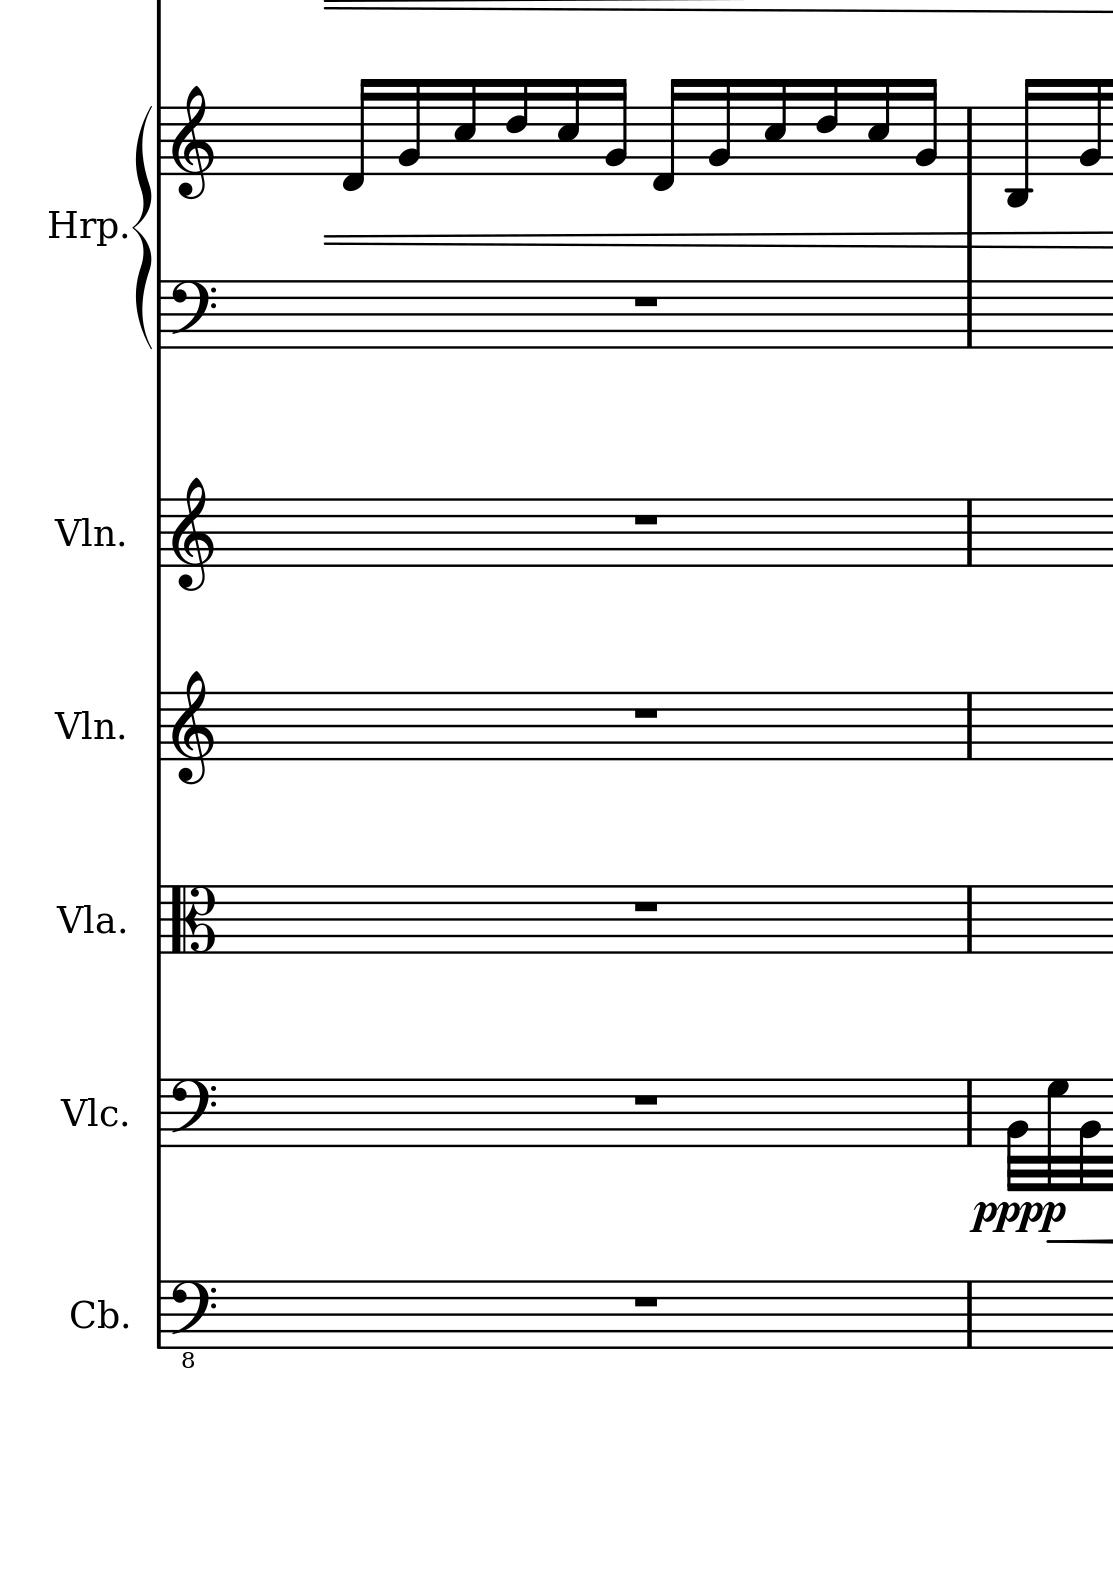16_-1: (652, 77, 687, 191), (343, 79, 373, 191)
16_-3: (1003, 79, 1040, 208)
16_2: (397, 77, 424, 175), (707, 78, 734, 176), (603, 78, 629, 179), (917, 77, 940, 177), (1080, 79, 1102, 177)
16_5: (762, 77, 790, 176), (865, 77, 893, 176), (453, 77, 479, 176), (554, 77, 581, 176)
16_6: (503, 76, 530, 178), (815, 78, 841, 175)
32_2: (1005, 1076, 1030, 1193), (1078, 1076, 1102, 1196)
32_7: (1043, 1076, 1068, 1194)
Brace: (130, 106, 151, 348)
Cb: (67, 1291, 120, 1341)
Cclef: (170, 883, 214, 957)
Fclef: (170, 278, 216, 350), (167, 1076, 213, 1145)
Gclef: (167, 466, 217, 589), (170, 668, 219, 789), (173, 82, 213, 203)
Hrp: (46, 203, 119, 256)
Lower_Fclef: (170, 1278, 214, 1369)
Rests1: (628, 1089, 666, 1111), (632, 897, 669, 918), (624, 511, 664, 529), (631, 1291, 662, 1312), (631, 703, 661, 721), (631, 289, 658, 309)
Single_barline: (958, 237, 979, 350), (955, 884, 979, 952), (956, 691, 979, 759), (956, 1078, 978, 1148), (956, 1281, 978, 1350), (956, 106, 978, 175), (956, 499, 978, 567), (148, 499, 169, 570), (148, 1281, 169, 1349), (151, 1076, 170, 1148), (148, 692, 167, 761), (151, 277, 169, 348), (151, 885, 169, 956), (152, 106, 169, 178)
Vla: (57, 897, 117, 937)
Vlc: (52, 1084, 123, 1137)
Vln: (52, 697, 117, 748), (53, 509, 120, 558)
pppp: (968, 1198, 1066, 1235)
